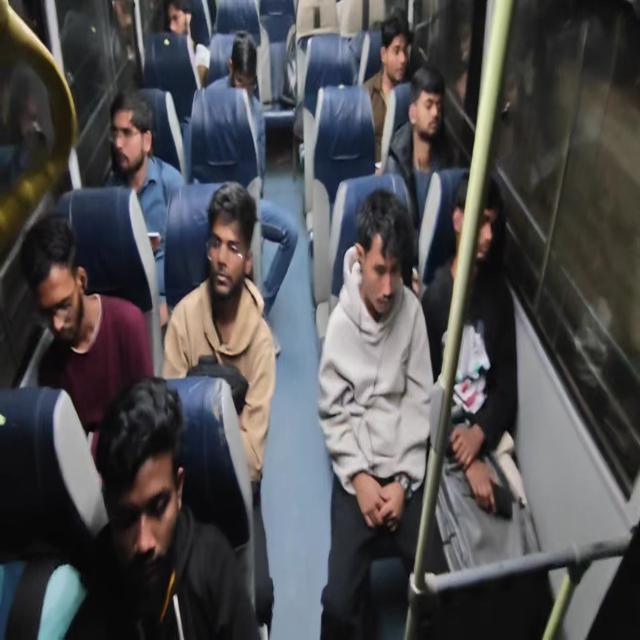person: (92, 385, 246, 593), (181, 164, 259, 319), (38, 208, 103, 347), (440, 166, 500, 300), (358, 197, 410, 315), (106, 98, 154, 191), (392, 68, 439, 158), (165, 0, 210, 62), (227, 16, 264, 89), (367, 20, 413, 74)
